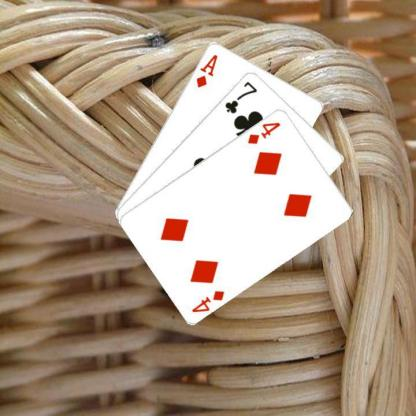4D: (189, 287, 226, 314), (245, 119, 282, 145)
7C: (222, 78, 258, 115)
AD: (193, 52, 219, 89)
